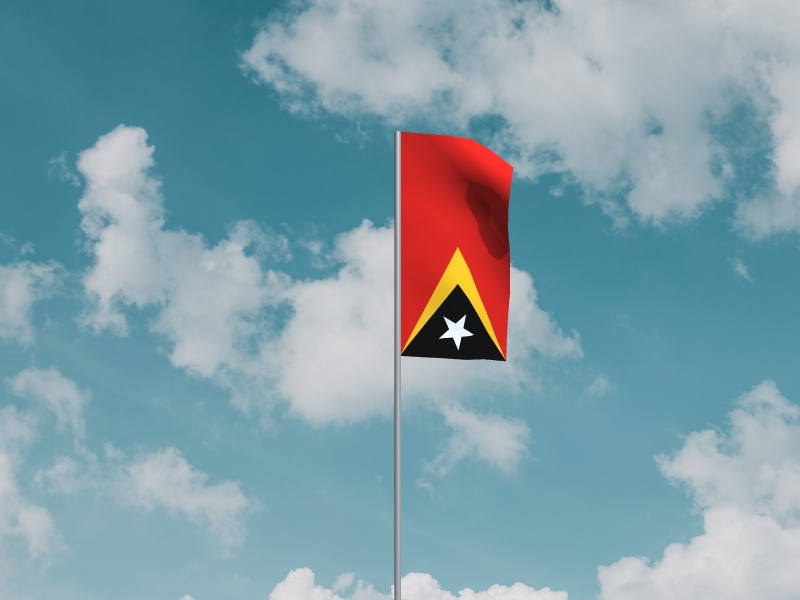tl: (401, 133, 515, 363)
